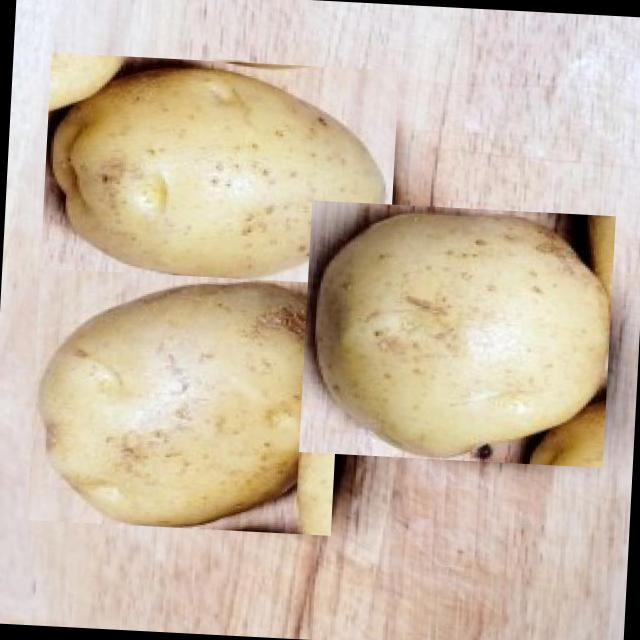Potato: (40, 52, 399, 290), (27, 267, 344, 535), (299, 199, 616, 467)
